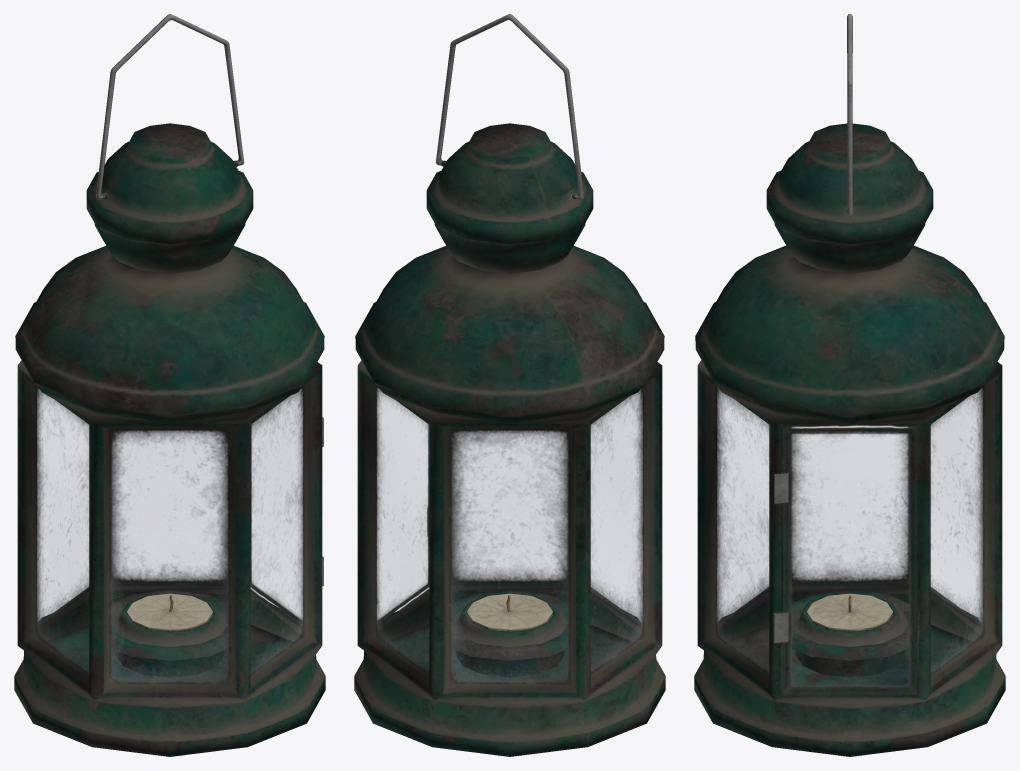
File: candle_lantern.glb
3 views of the same model, side by side, from view 1: azimuth 30°, elevation 25°; view 2: azimuth 150°, elevation 25°; view 3: azimuth 270°, elevation 25° (orthographic).
Visible parts, largest first — view 1: Circle.003; view 2: Circle.003; view 3: Circle.003.
Part boxes in pixels (x1,y1,x2,y2): Circle.003: (14,14,325,756); Circle.003: (354,14,665,756); Circle.003: (694,14,1005,756).
Size of the model in its own units: 0.8487 by 2 by 0.8358.
1 material, 1 textured.
